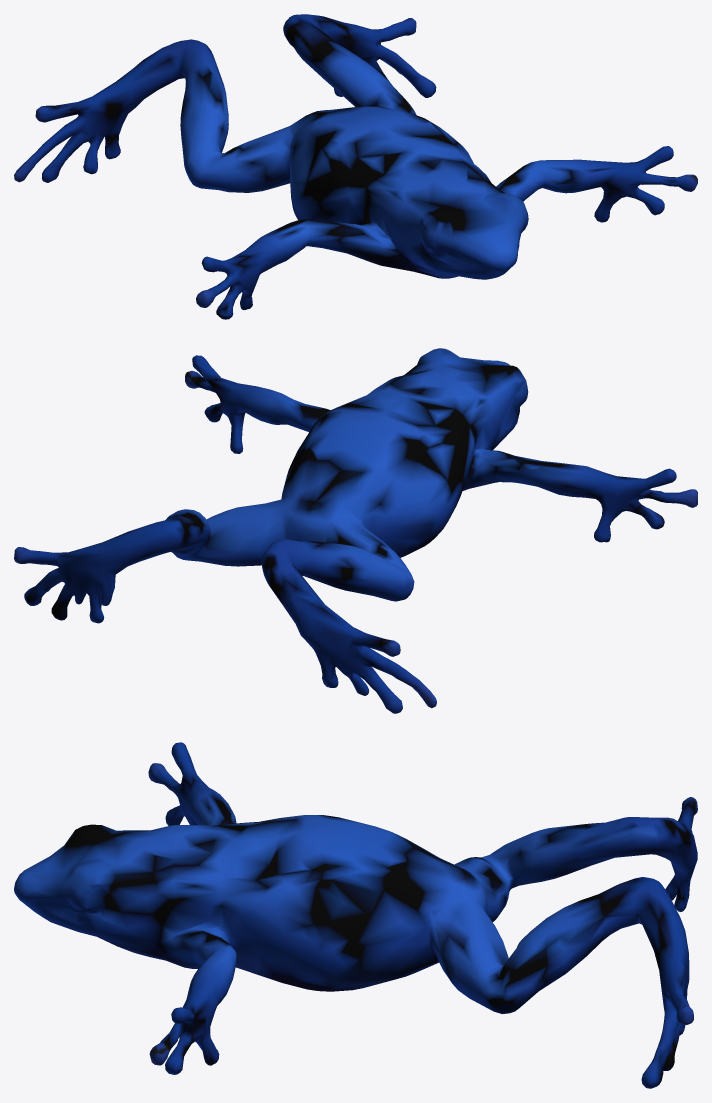
Rendered from dartfrog.swim.lo.glb.
The picture shows the model from 3 angles, top to bottom: view 1: azimuth 30°, elevation 25°; view 2: azimuth 150°, elevation 25°; view 3: azimuth 270°, elevation 25°; orthographic projection. The views are drawn at different scales.
Parts seen in each view (by area): view 1: dartfrog.swim; view 2: dartfrog.swim; view 3: dartfrog.swim.
Part boxes in pixels (<box>): dartfrog.swim: <box>14,14,697,319</box>; dartfrog.swim: <box>14,348,697,713</box>; dartfrog.swim: <box>14,742,697,1088</box>.
Size of the model in its own units: 0.0612 by 0.0153 by 0.0616.
